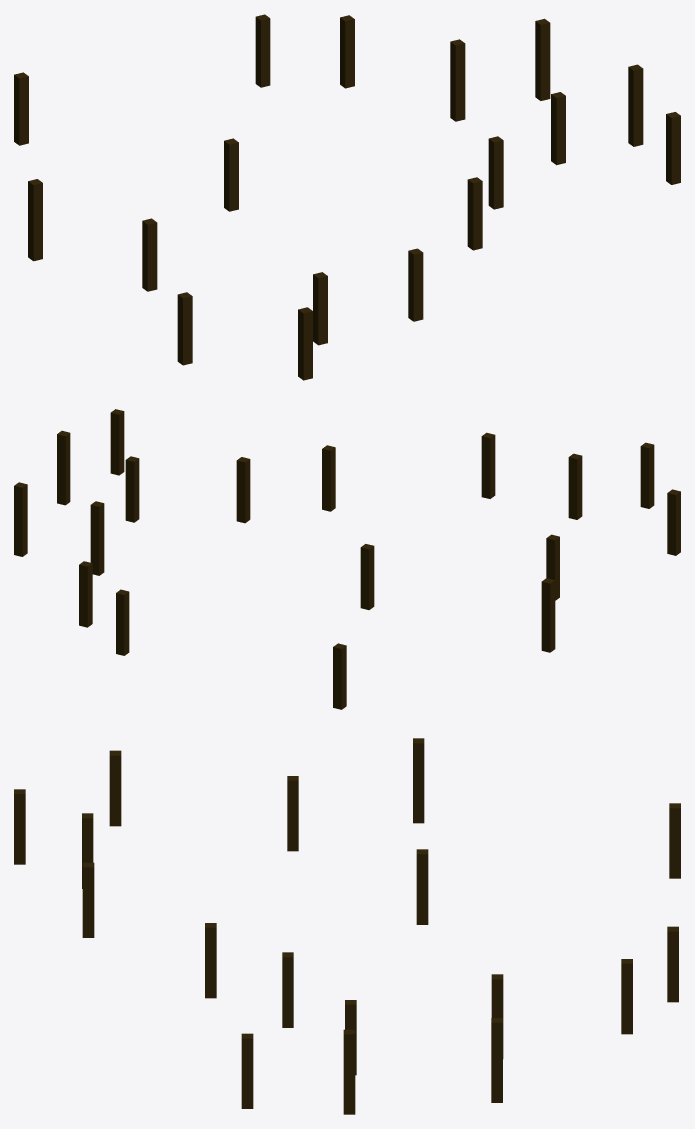
The model's file is Kusen.fbx.
3 views of the same model, one above another, from view 1: azimuth 30°, elevation 25°; view 2: azimuth 150°, elevation 25°; view 3: azimuth 270°, elevation 25° (orthographic). The views are drawn at different scales.
Parts seen in each view (by area): view 1: kusen; view 2: kusen; view 3: kusen.
Part boxes in pixels (x1=…): kusen: x1=14, y1=14, x2=680, y2=380; kusen: x1=14, y1=409, x2=680, y2=709; kusen: x1=14, y1=738, x2=680, y2=1114.
Size of the model in its own units: 4582 by 578 by 4363.
